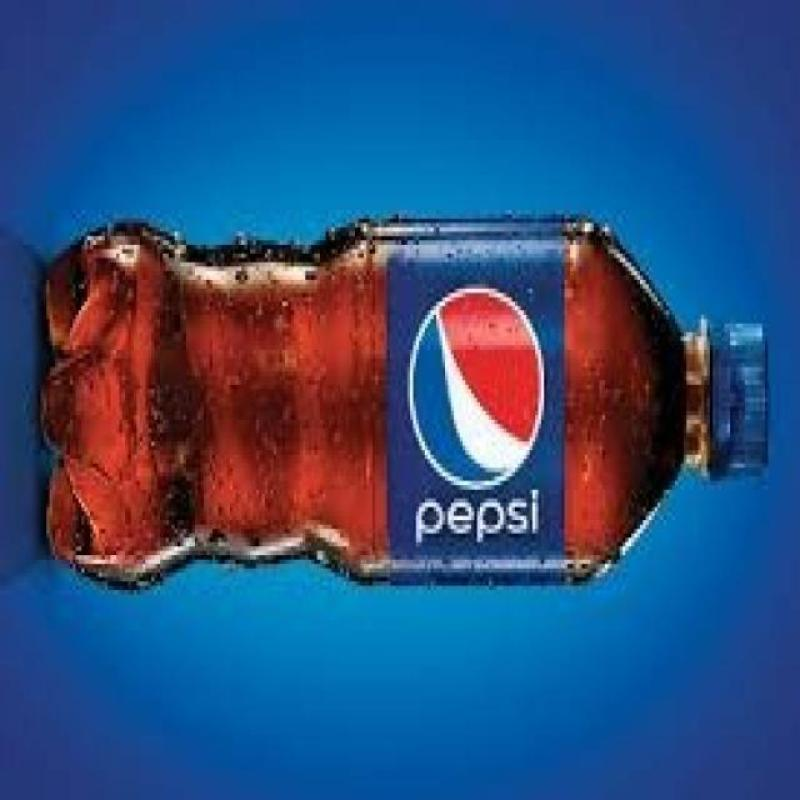botella: (26, 216, 774, 588)
